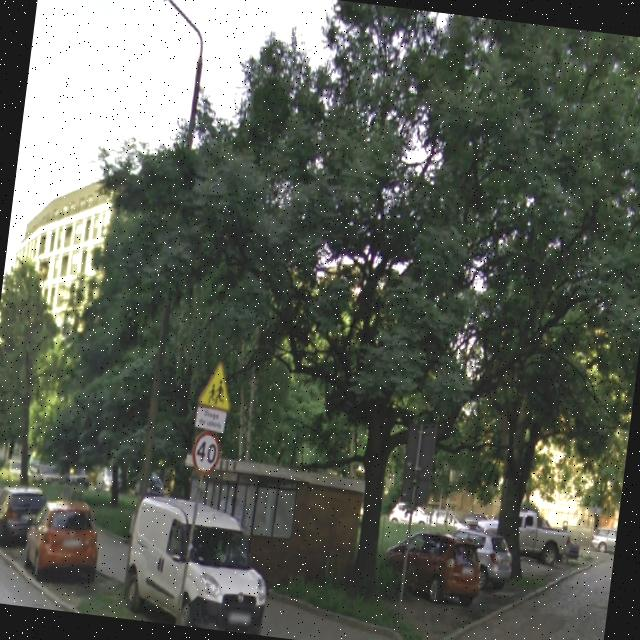Dzieci: (196, 358, 236, 413)
